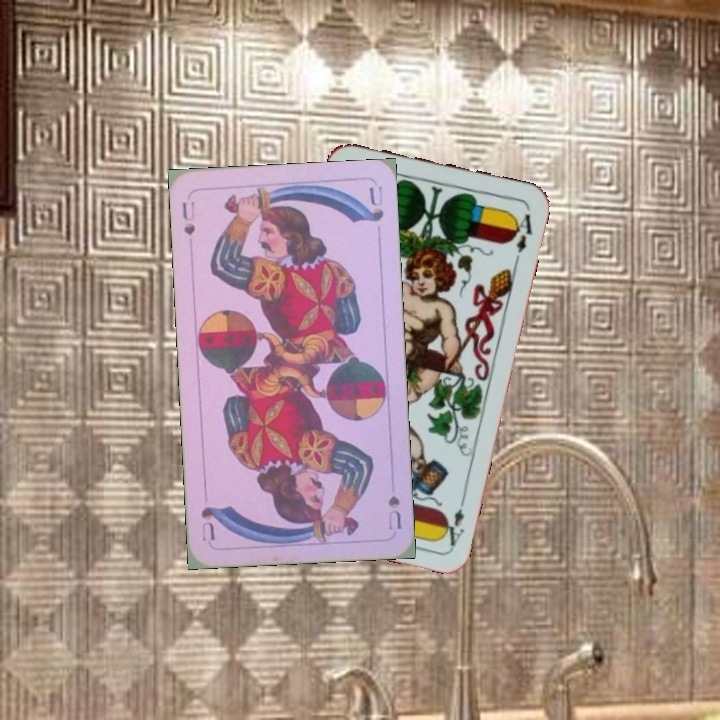EA: (438, 490, 468, 549)
SU: (384, 491, 404, 533), (178, 197, 198, 238)
